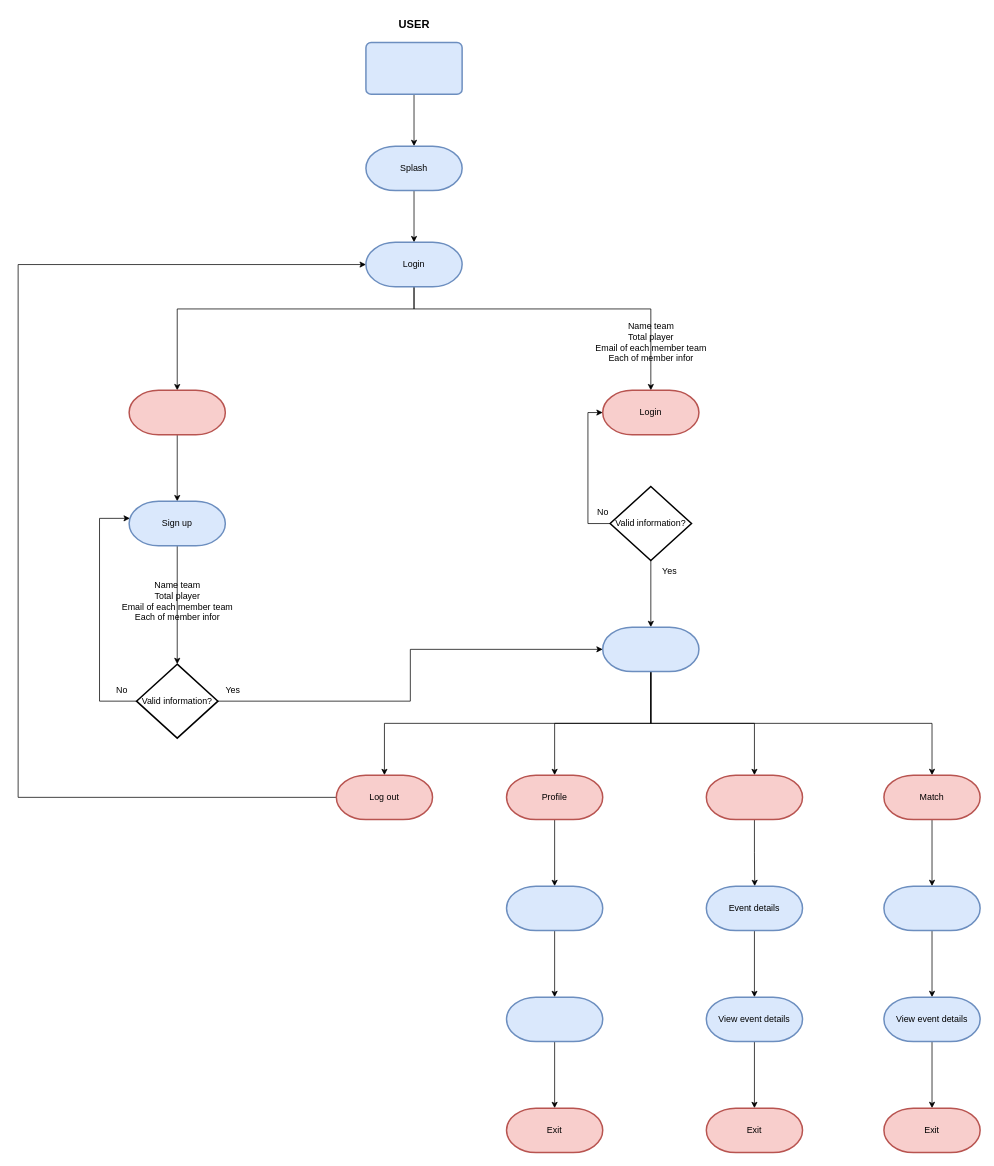
The diagram is 994 pixels wide and 1166 high, and some of its shapes have lost their labels. The centre of each missing label's shape, as x and y in pixels:
"Edit profile" belongs at pixel 554 1019.
"Event" belongs at pixel 754 797.
"Home" belongs at pixel 650 649.
"Match details" belongs at pixel 931 908.
"My profile" belongs at pixel 554 908.
"New here? Sign up" belongs at pixel 177 412.
"Start" belongs at pixel 413 68.
